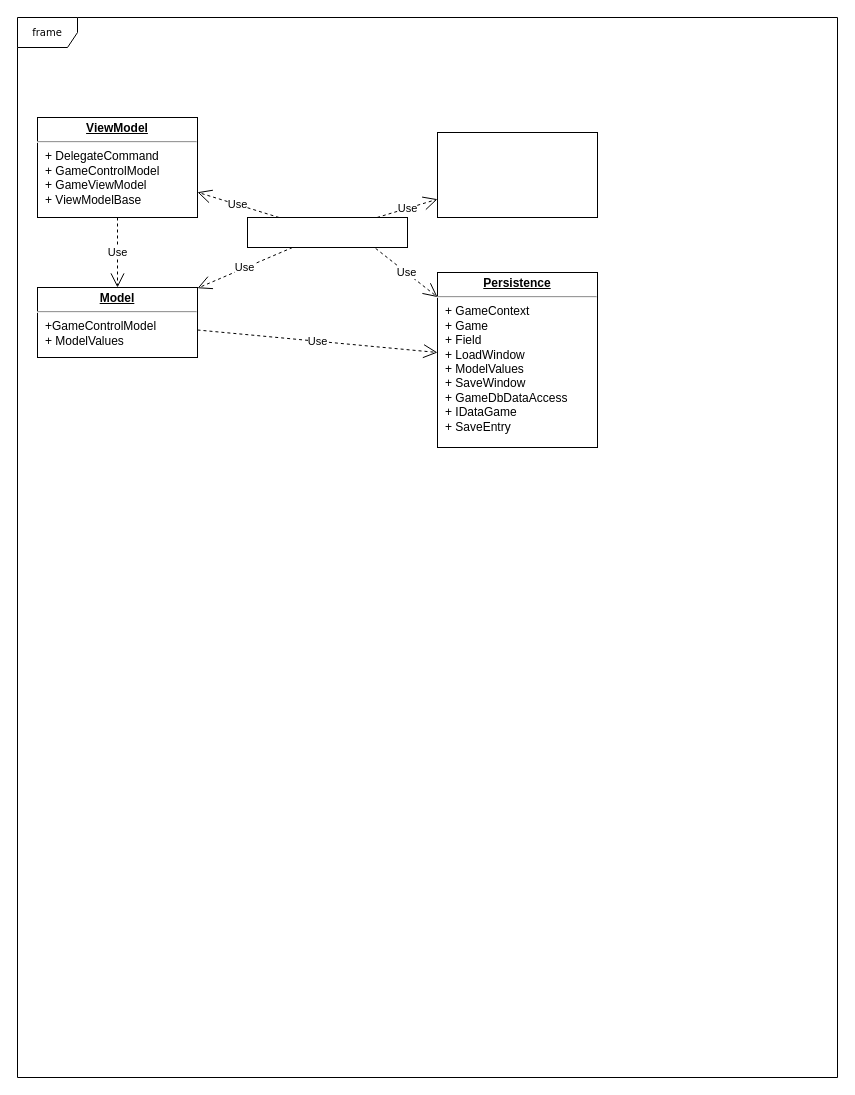
Image size: 855x1095. Some labels were removed from this diagram. The shapes that lost their labels are listed below. From the top down, each one's box as (x1, y1, x2, y2) in pixels, then its label:
(436, 132, 598, 218): View + MainWindow + LoadWindow + SaveWindow
(246, 216, 408, 248): App
